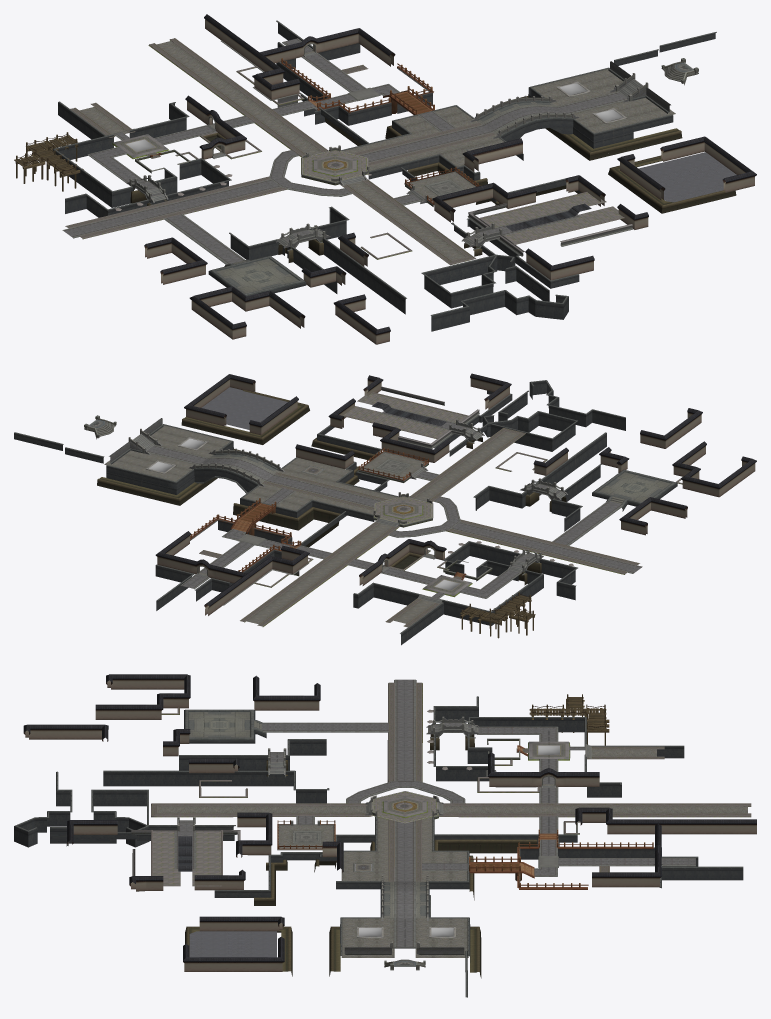
The model's file is City_1_2017_3_9.fbx.
3 views of the same model, one above another, from view 1: azimuth 30°, elevation 25°; view 2: azimuth 150°, elevation 25°; view 3: azimuth 270°, elevation 25° (orthographic). The views are drawn at different scales.
Parts seen in each view (by area): view 1: polySurface24, polySurface26, city3, DSWC:polySurface8, city3482, city2; view 2: polySurface24, polySurface26, city3, city3482, city2; view 3: polySurface24, polySurface26, city3, DSWC:polySurface8, city3482.
Boxes of the visible parts, x1,y1,x2,y2 form: polySurface24: (52,14,756,344); polySurface26: (14,38,698,265); city3: (638,152,736,202); DSWC:polySurface8: (229,232,271,260); city3482: (126,83,623,151); city2: (506,203,591,231); polySurface24: (14,373,756,645); polySurface26: (84,407,642,638); city3: (201,387,287,429); city3482: (149,438,460,590); city2: (372,402,446,426); polySurface24: (14,674,756,997); polySurface26: (174,679,695,970); city3: (189,931,276,957); DSWC:polySurface8: (287,739,326,755); city3482: (359,745,559,936).
Size of the model in its own units: 235 by 12.32 by 223.
